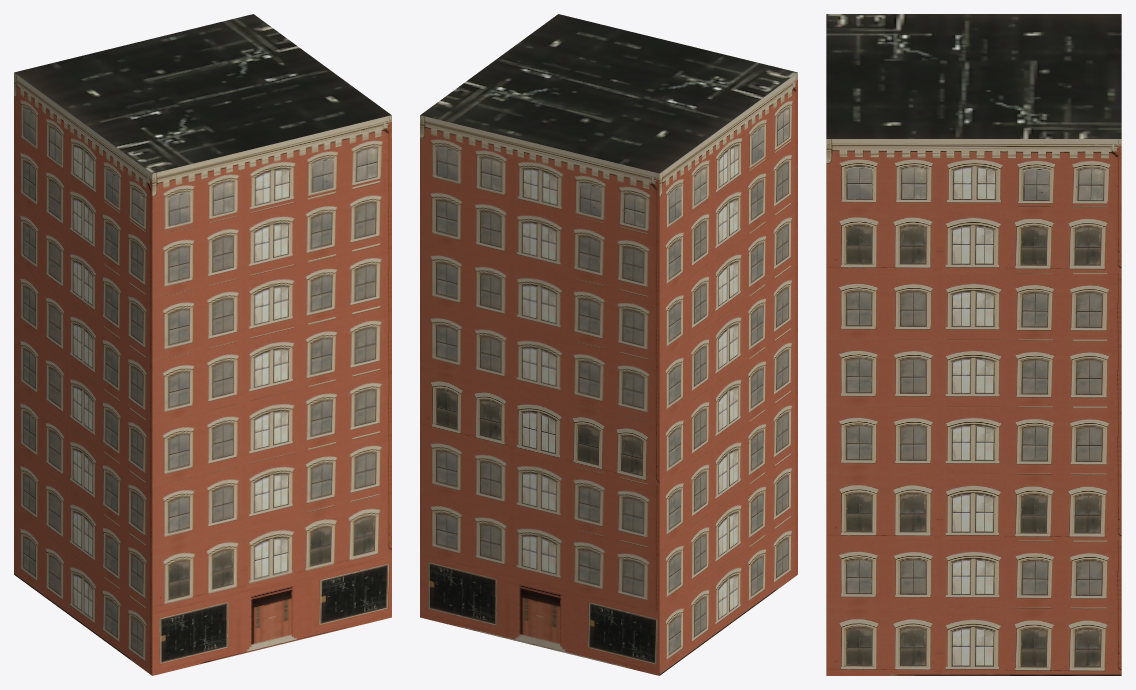
File: 1x1_mbuilding.dae
3 views of the same model, side by side, from view 1: azimuth 30°, elevation 25°; view 2: azimuth 150°, elevation 25°; view 3: azimuth 270°, elevation 25° (orthographic). The views are drawn at different scales.
Parts seen in each view (by area): view 1: pCube1; view 2: pCube1; view 3: pCube1.
Boxes of the visible parts, x1,y1,x2,y2 form: pCube1: (14, 14, 391, 675); pCube1: (420, 14, 797, 675); pCube1: (826, 14, 1121, 675).
Size of the model in its own units: 100 by 200 by 100.
